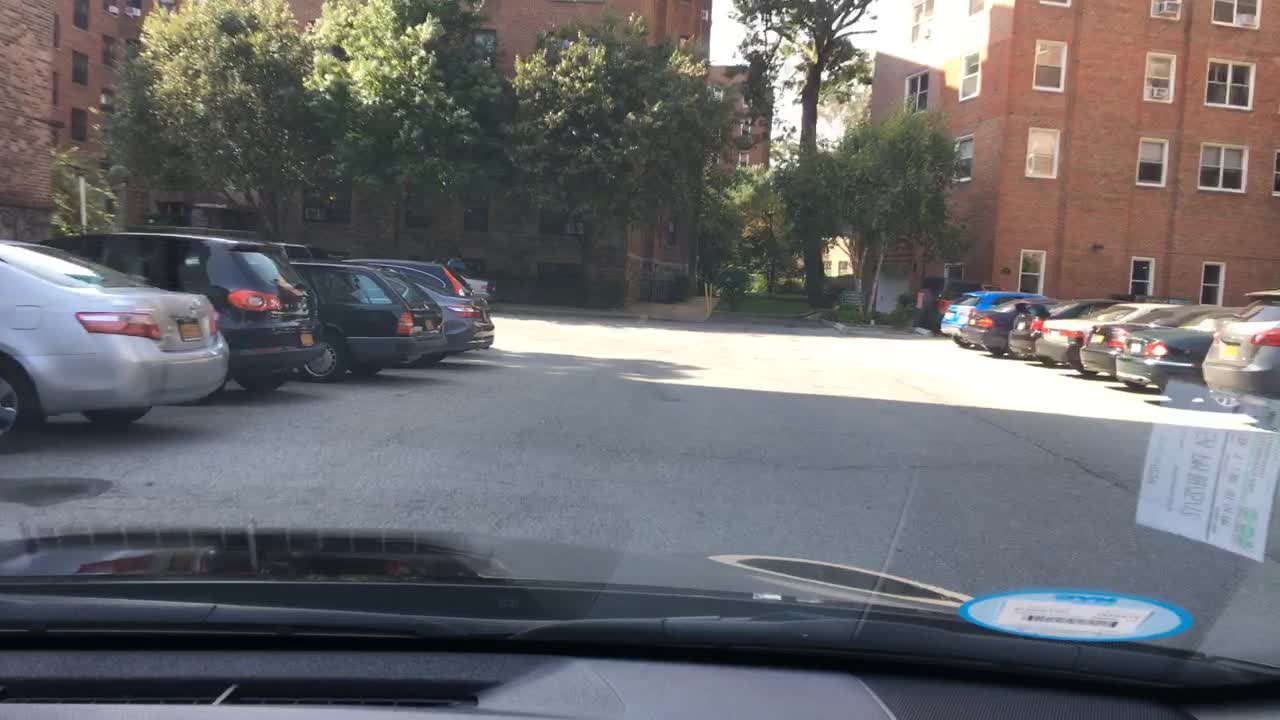car: (1, 239, 233, 446), (40, 226, 322, 393), (288, 257, 448, 381), (1077, 301, 1239, 386), (1116, 303, 1250, 396), (1013, 300, 1175, 368), (1204, 290, 1279, 429), (410, 280, 497, 355), (941, 290, 1045, 345), (964, 301, 1058, 358), (346, 253, 465, 292), (464, 274, 497, 303)
person: (447, 254, 466, 272)
